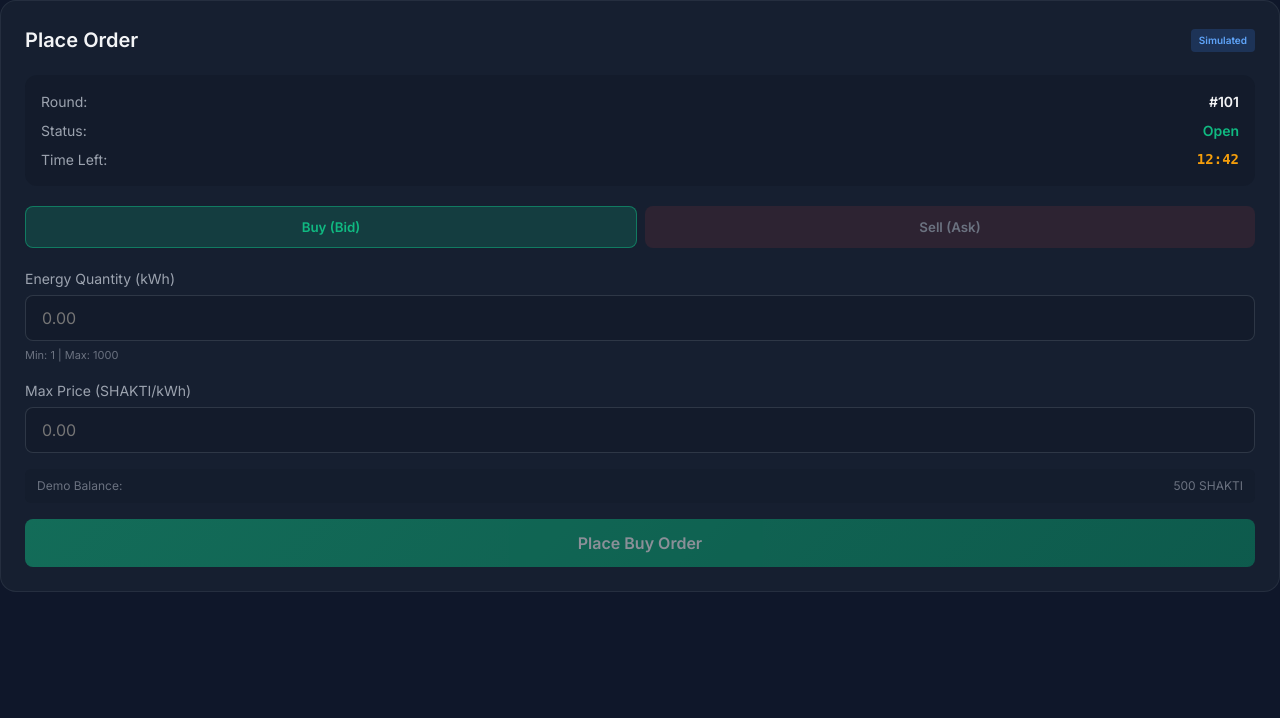
BidForm simulation mode › shows validation error from demo ledger when order is rejected
The image size is (1280, 718).
Step 1. Type "99" into the number field labelled "Energy Quantity (kWh)" → (640, 318), box [25,295,1255,341]
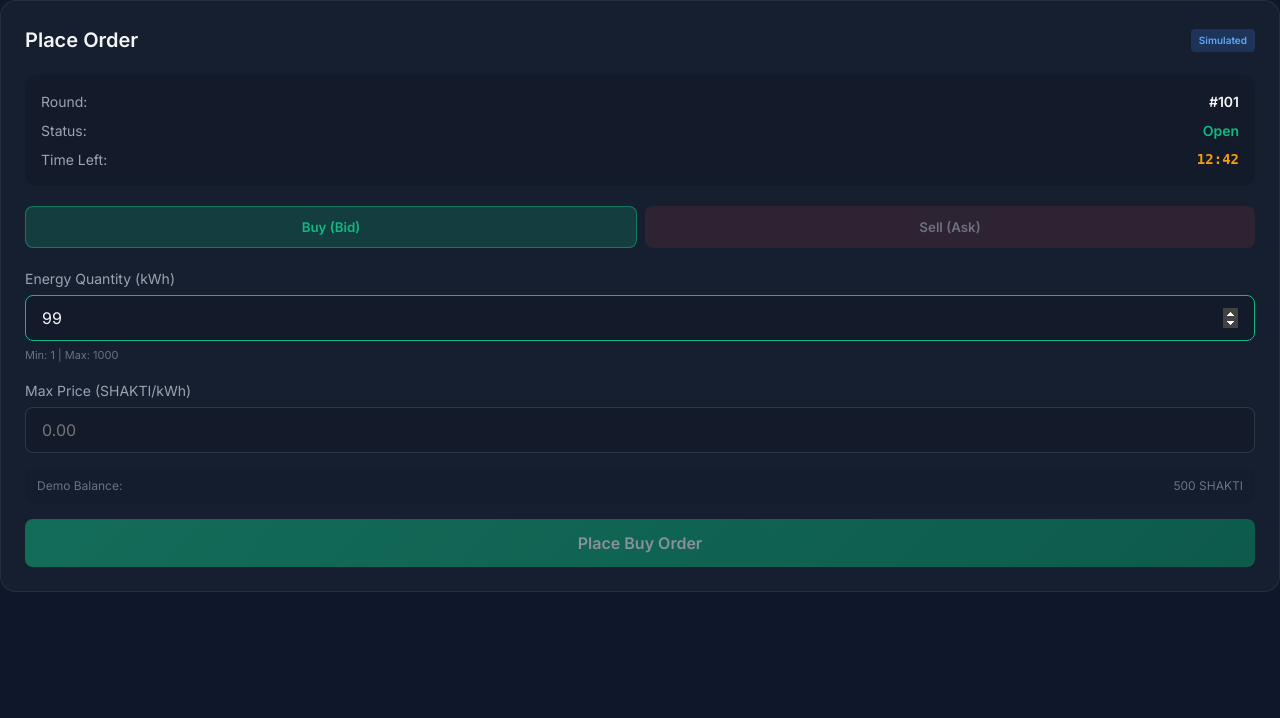
Step 2. Type "20" into the number field labelled "Max Price (SHAKTI/kWh)" → (640, 430), box [25,406,1255,452]
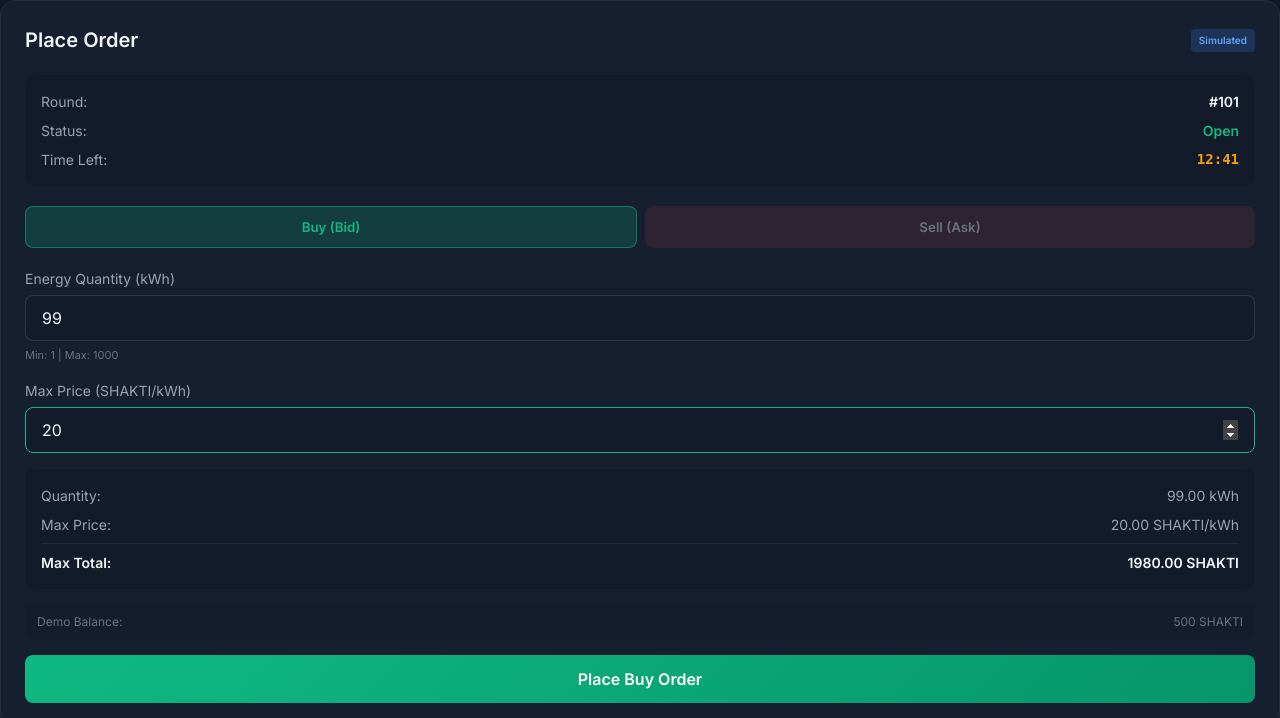
Step 3. Click the button "Place Buy Order" → click(640, 678), box [25,654,1255,702]
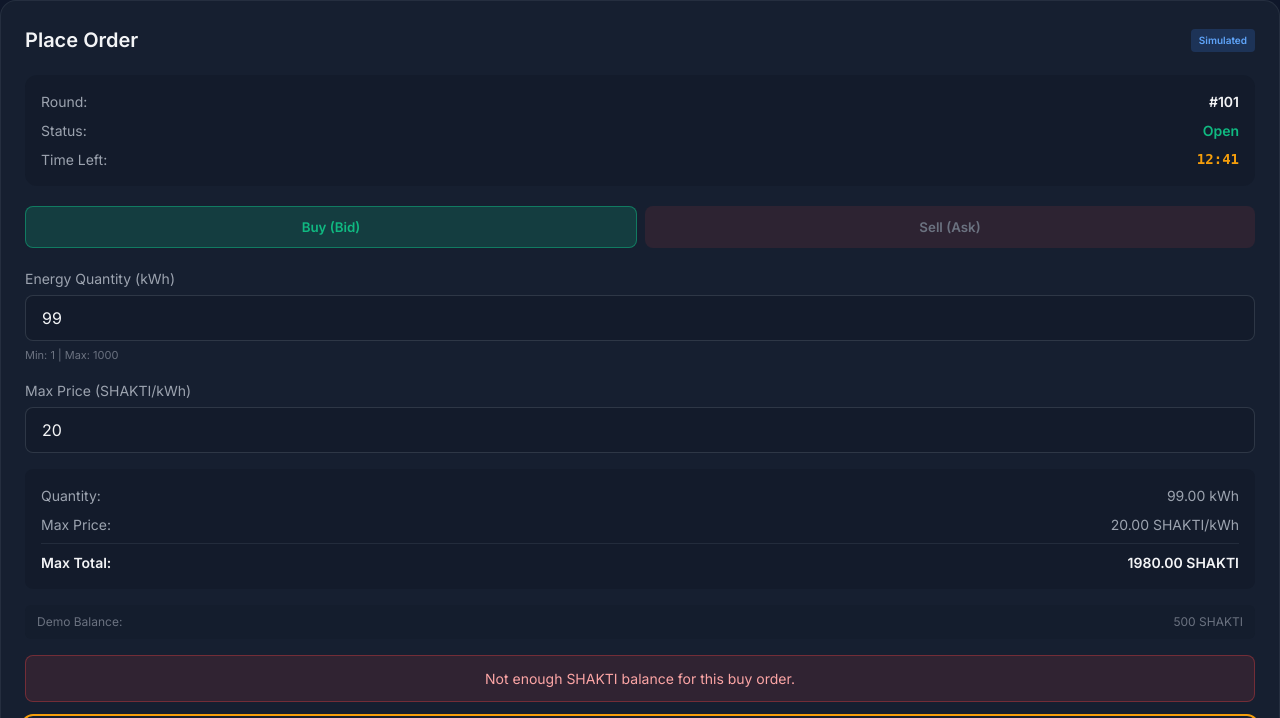
Expected: the text "Not enough SHAKTI balance for this buy order." is shown, [25,654,1255,702]
